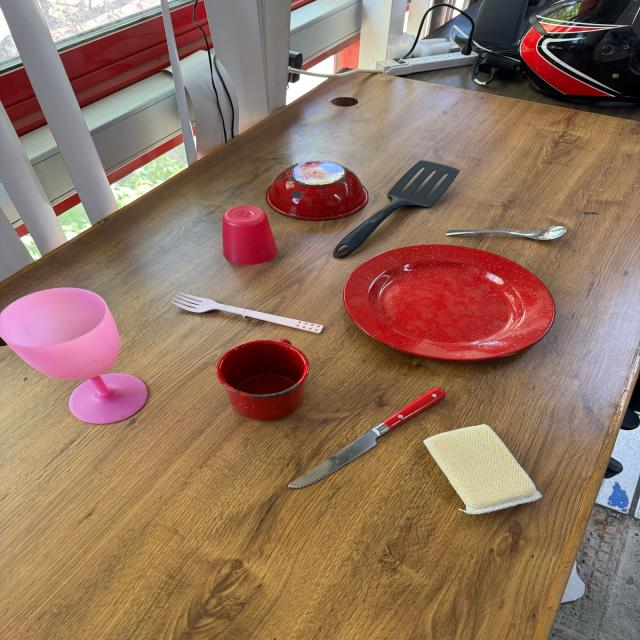cup: (214, 338, 313, 420)
fork: (168, 291, 332, 335)
glass: (222, 206, 278, 266)
knife: (286, 388, 446, 492)
plate: (342, 245, 562, 364)
spatula: (332, 160, 463, 260)
sponge: (422, 423, 550, 518)
spoon: (448, 225, 564, 242)
tazon: (263, 158, 371, 221)
wineglass: (0, 287, 146, 428)
